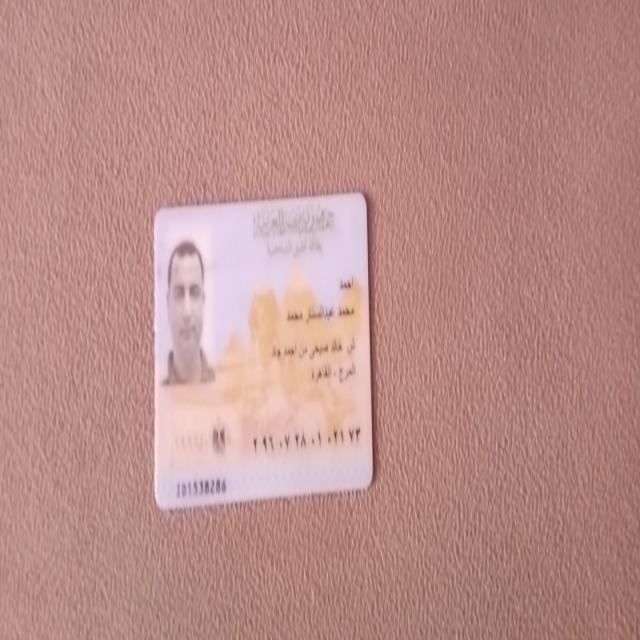id_card: (148, 178, 379, 523)
